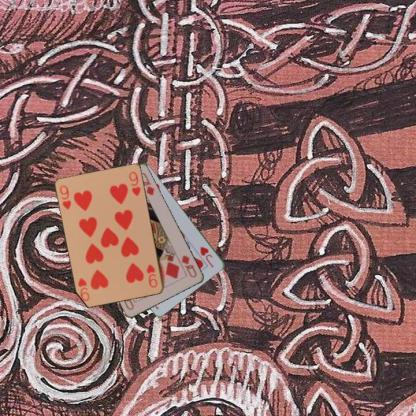9h: (57, 182, 73, 211), (144, 262, 159, 289)
Jh: (198, 244, 216, 269)
Qd: (179, 253, 198, 279)
